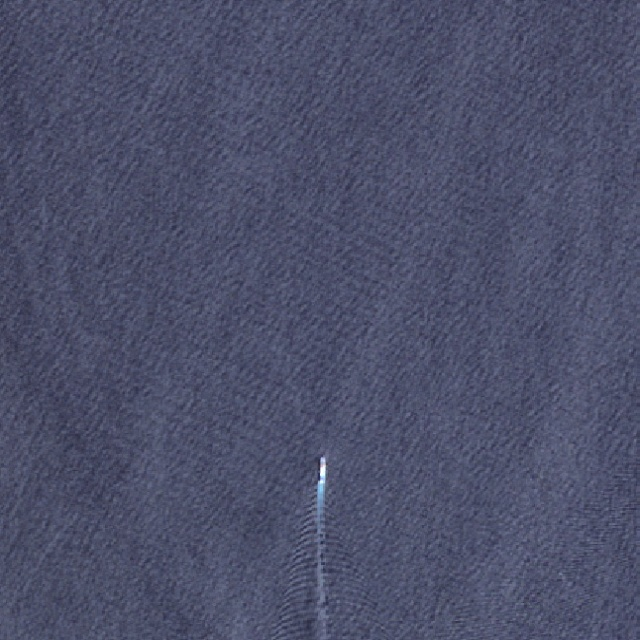wake: (283, 455, 360, 632)
